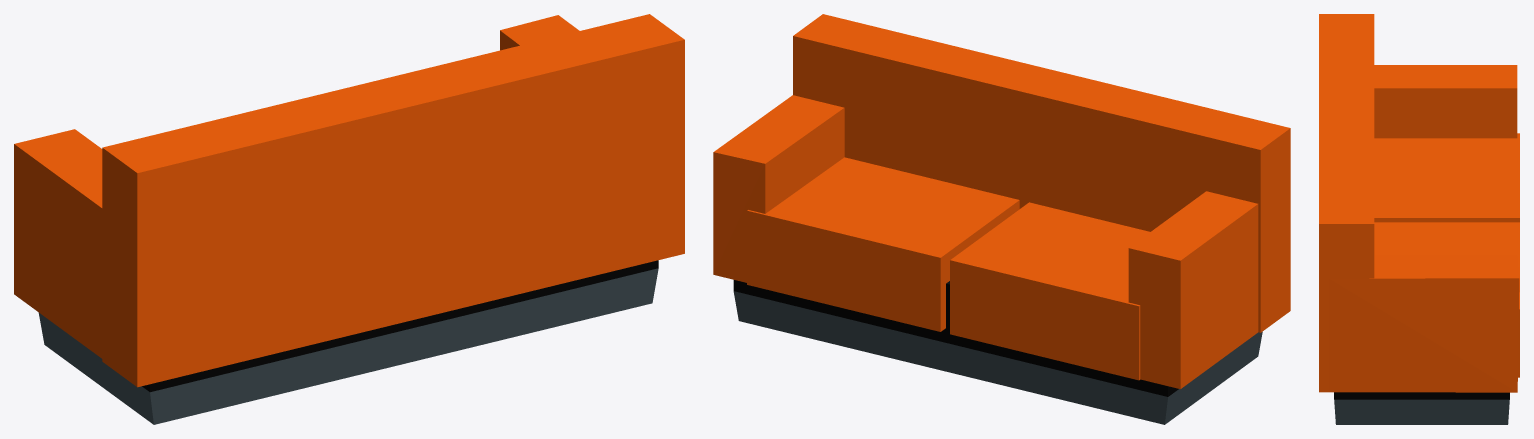
File: couch.glb
3 views of the same model, side by side, from view 1: azimuth 30°, elevation 25°; view 2: azimuth 150°, elevation 25°; view 3: azimuth 270°, elevation 25° (orthographic). The views are drawn at different scales.
Visible parts, largest first — view 1: node_MeshObject556305408-PolyPaper13; view 2: node_MeshObject556305408-PolyPaper13; view 3: node_MeshObject556305408-PolyPaper13.
Boxes of the visible parts, x1,y1,x2,y2 form: node_MeshObject556305408-PolyPaper13: [14, 14, 684, 424]; node_MeshObject556305408-PolyPaper13: [713, 14, 1290, 424]; node_MeshObject556305408-PolyPaper13: [1319, 14, 1519, 424].
Bounding box in the file's own units: 1.27 × 0.5901 × 0.5131.
1 material, 1 textured.
